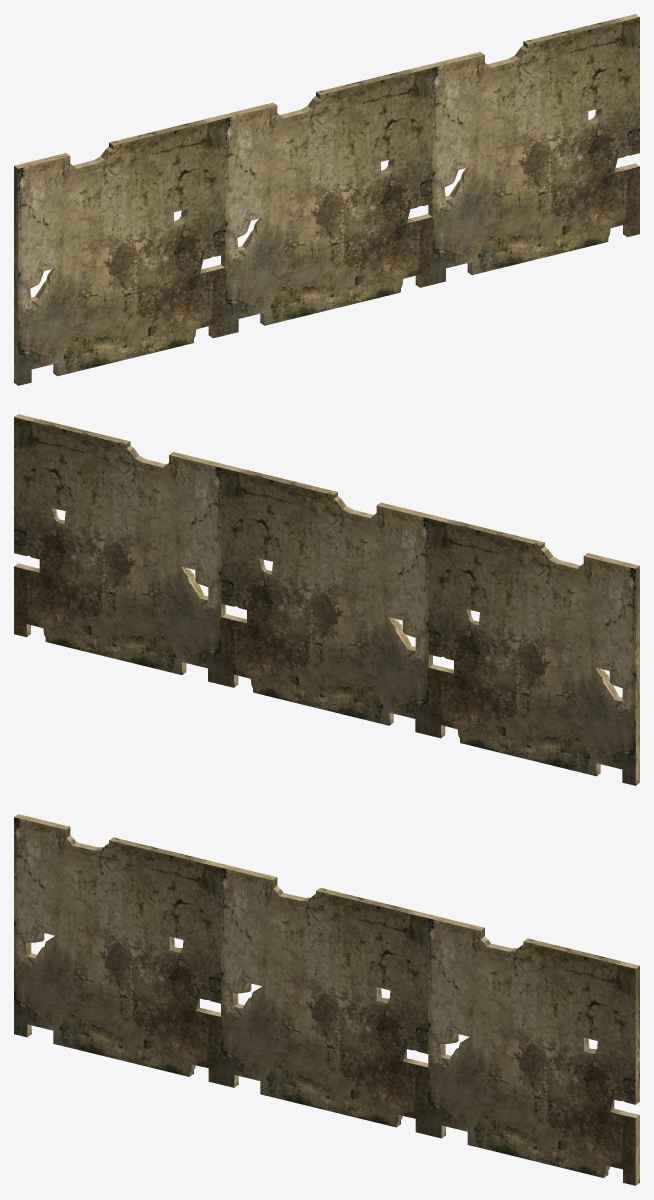
Rendered from DestroyableWalls2.obj.
3 renders of one model, top to bottom at view 1: azimuth 30°, elevation 25°; view 2: azimuth 150°, elevation 25°; view 3: azimuth 330°, elevation 25°, orthographic.
Visible parts, largest first — view 1: fx_DestroyableWalls_512x512_FRACTURED.001, fx_DestroyableWalls_512x512_FRACTURED.002, fx_DestroyableWalls_512x512_FRACTURED; view 2: fx_DestroyableWalls_512x512_FRACTURED.001, fx_DestroyableWalls_512x512_FRACTURED, fx_DestroyableWalls_512x512_FRACTURED.002; view 3: fx_DestroyableWalls_512x512_FRACTURED.002, fx_DestroyableWalls_512x512_FRACTURED, fx_DestroyableWalls_512x512_FRACTURED.001.
Part boxes in pixels (x1,y1,x2,y2): fx_DestroyableWalls_512x512_FRACTURED.001: (14, 115, 225, 385); fx_DestroyableWalls_512x512_FRACTURED.002: (428, 14, 639, 284); fx_DestroyableWalls_512x512_FRACTURED: (221, 64, 432, 335); fx_DestroyableWalls_512x512_FRACTURED.001: (428, 515, 639, 785); fx_DestroyableWalls_512x512_FRACTURED: (221, 464, 432, 735); fx_DestroyableWalls_512x512_FRACTURED.002: (14, 414, 225, 684); fx_DestroyableWalls_512x512_FRACTURED.002: (428, 915, 639, 1185); fx_DestroyableWalls_512x512_FRACTURED: (221, 864, 432, 1134); fx_DestroyableWalls_512x512_FRACTURED.001: (14, 814, 224, 1084).
Bounding box in the file's own units: 33.18 × 11.07 × 0.3972.
2 materials, 2 textured.
